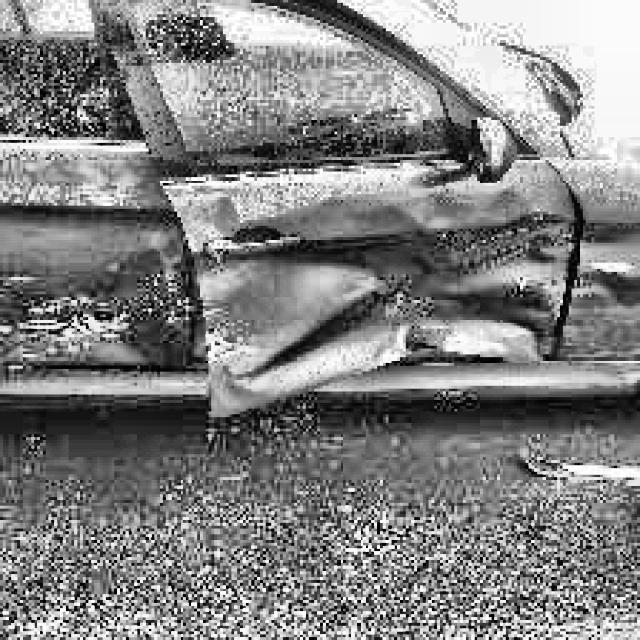door_dent: (195, 186, 478, 367)
